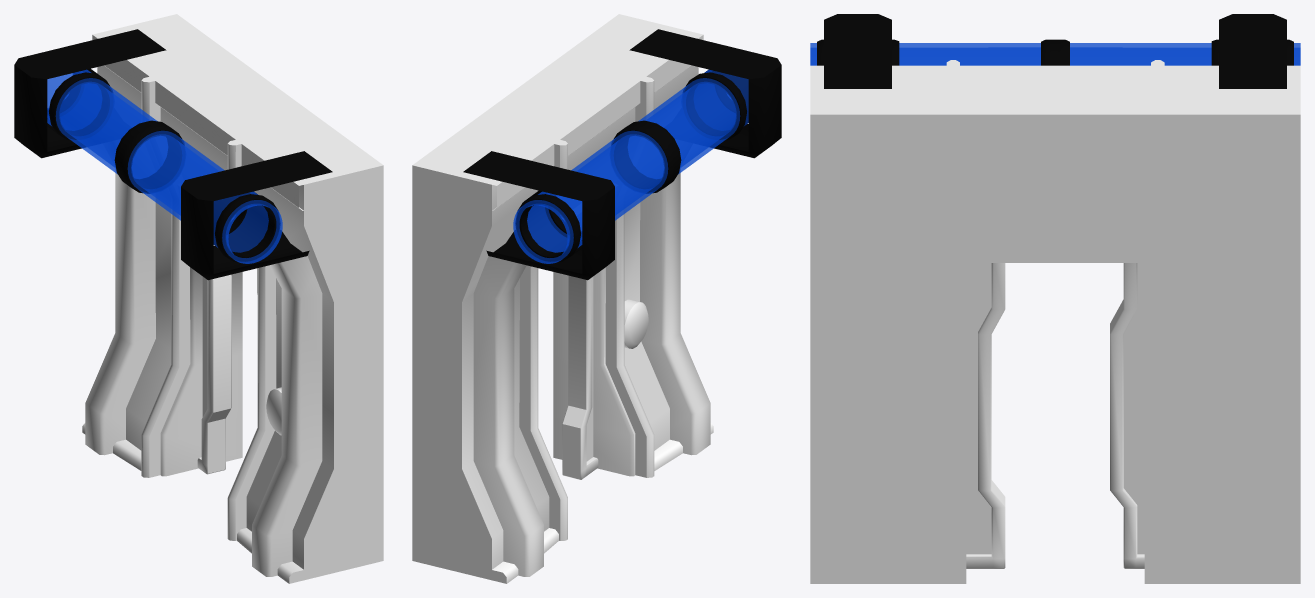
Rendered from DoorOpen.fbx.
The picture shows the model from 3 angles, left to right: view 1: azimuth 30°, elevation 25°; view 2: azimuth 150°, elevation 25°; view 3: azimuth 270°, elevation 25°; orthographic projection. The views are drawn at different scales.
Visible parts, largest first — view 1: Door; view 2: Door; view 3: Door.
Part boxes in pixels (<box>): Door: <box>14,14,383,583</box>; Door: <box>412,14,781,583</box>; Door: <box>810,14,1300,583</box>.
Size of the model in its own units: 1.75 by 3.8 by 3.6.
